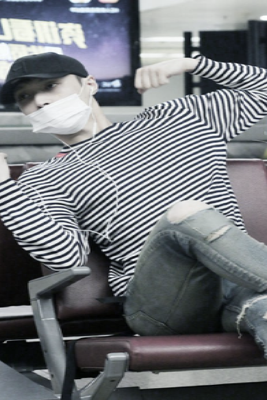mask_weared_incorrect: (15, 77, 87, 133)
